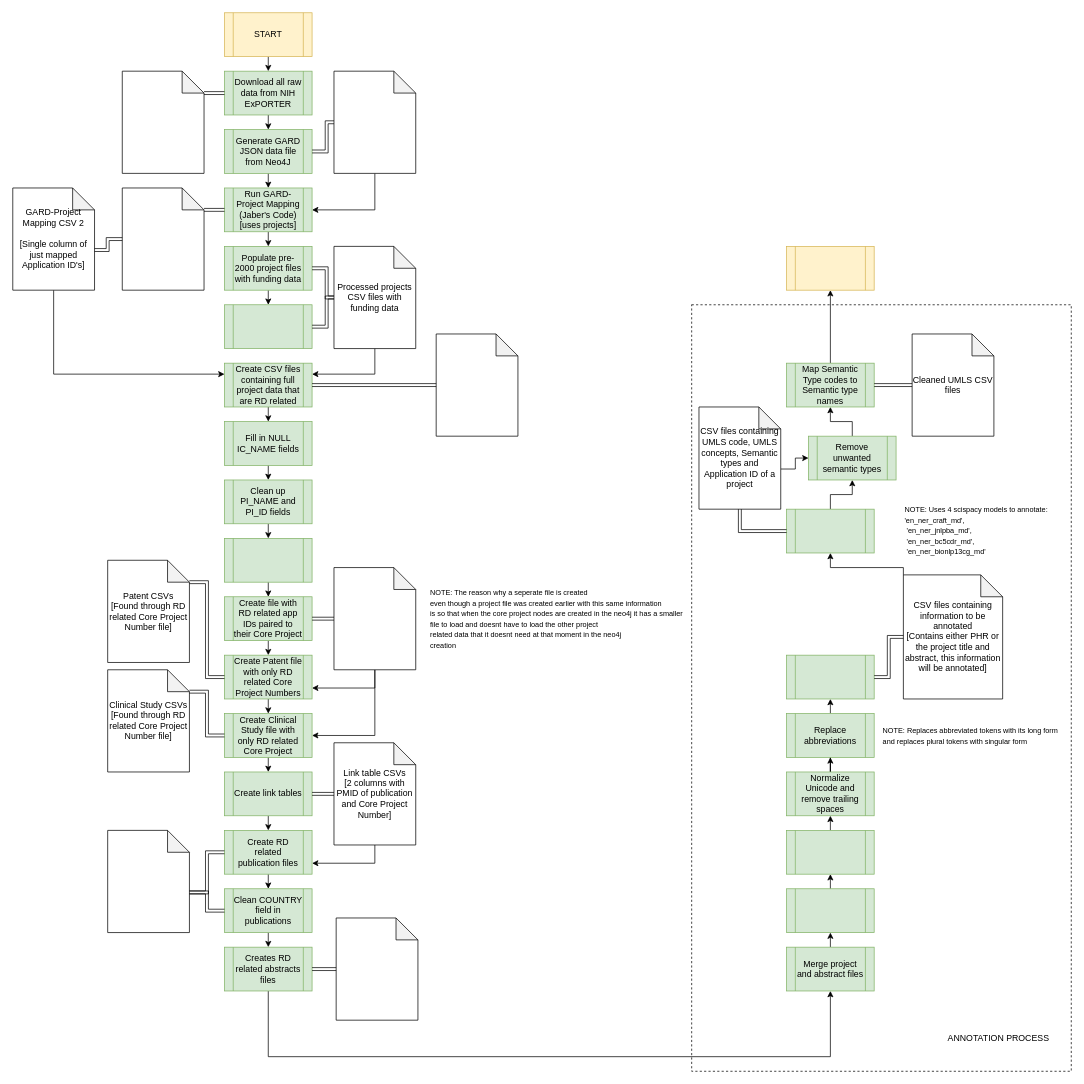
This 1084x1084 diagram has some shape labels left out. The centre of each missing label's shape, as x and y in pixels:
"abstracts clinical studies projects link tables patents publications CSV files" belongs at (x=163, y=121).
"Abstracts CSV [All abstracts of RD related projects]" belongs at (x=376, y=968).
"All GARD data JSON file" belongs at (x=374, y=121).
"Copy over post-1999 project files to the processed folder" belongs at (x=268, y=326).
"END [Use processed CSV files to populate Neo4j]" belongs at (x=830, y=268).
"Extract AIM section of abstract" belongs at (x=830, y=676).
"Fill in NULL TOTAL_COST fields" belongs at (x=268, y=560).
"Fill NULL abstracts and project titles with a space" belongs at (x=830, y=910).
"GARD-Project Mapping CSV [Contains mapped app ID and all GARD information]" belongs at (x=163, y=238).
"Match UMLS concepts and Semantic Types" belongs at (x=830, y=530).
"Project data CSVs of only RD related projects" belongs at (x=476, y=384).
"Publication CSVs [Contains only RD related publication data]" belongs at (x=148, y=881).
"RD Related CoreProject to App ID CSV [Only the 2 columns]" belongs at (x=374, y=618).
"Use only PHR with more than 20 words, else use abstract" belongs at (x=830, y=852).
